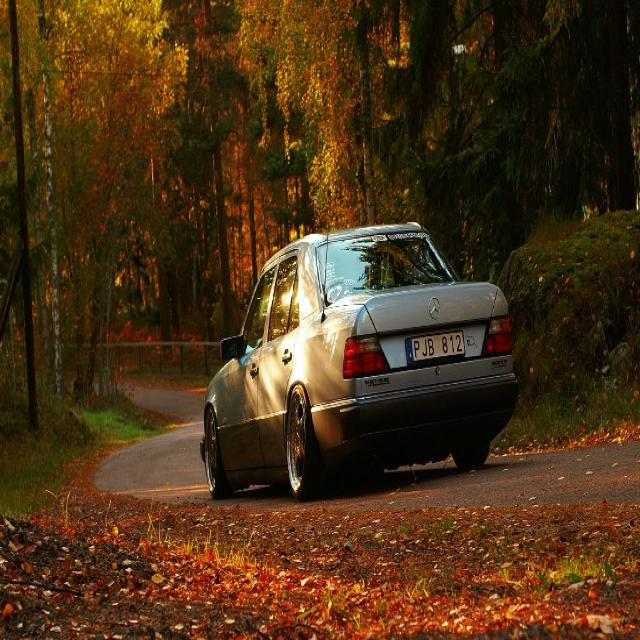car: (200, 223, 518, 497)
